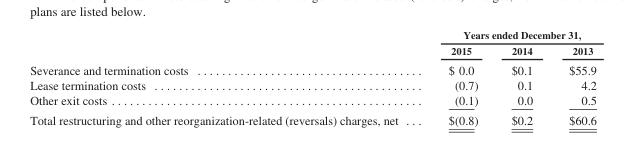table: (29, 28, 595, 126)
table column: (29, 28, 422, 126), (422, 28, 494, 126), (494, 28, 550, 126), (550, 28, 595, 126)
table column header: (29, 28, 595, 59)
table row: (29, 59, 595, 77), (29, 42, 595, 59), (29, 92, 595, 109), (29, 109, 595, 126), (29, 77, 595, 92), (29, 28, 595, 42)
table spanning cell: (422, 28, 595, 42)
